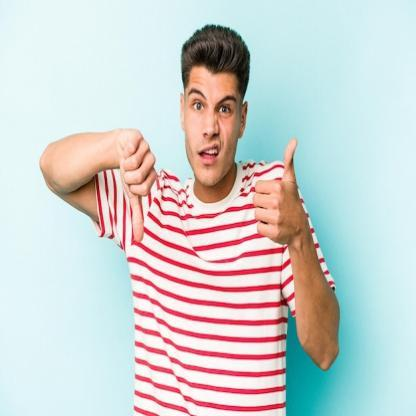thumb_down: (112, 123, 160, 245)
thumb_up: (250, 132, 305, 252)
